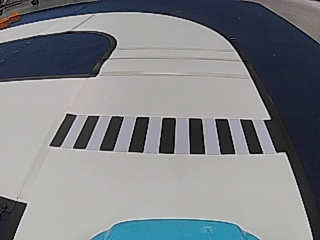CrossWalk: (47, 112, 276, 157)
